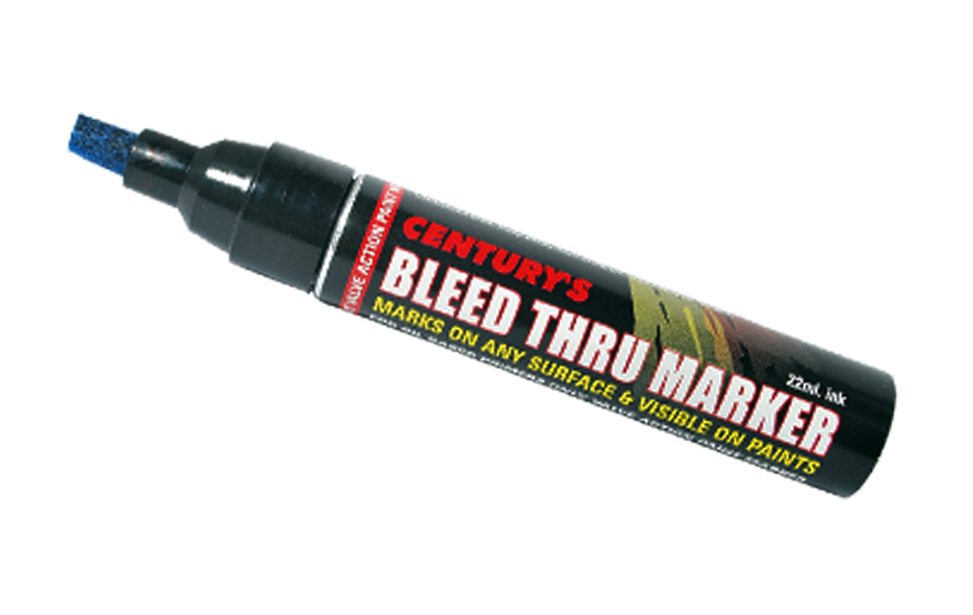Nonrec_Other: (53, 94, 914, 521)
